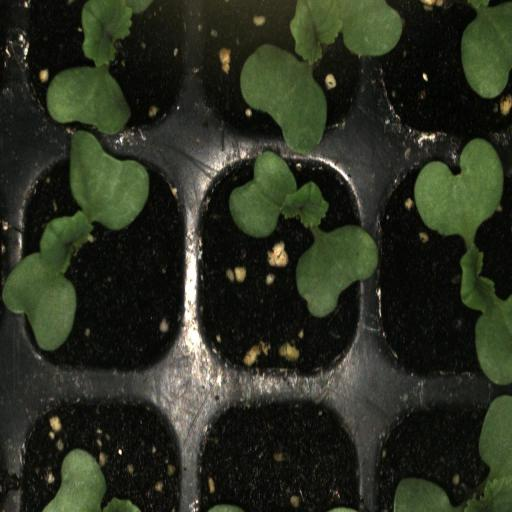seedling: (193, 146, 370, 387), (14, 147, 192, 381), (372, 146, 512, 390), (192, 0, 372, 148), (18, 0, 194, 148)
